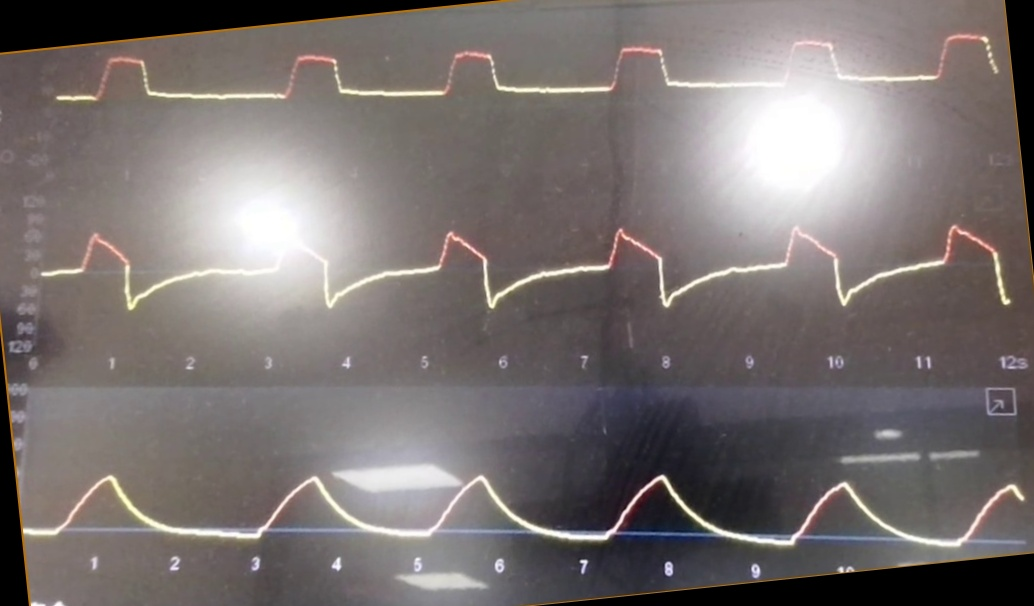Normal Flow: (45, 197, 1014, 338)
Normal Volume: (28, 430, 1021, 551)
